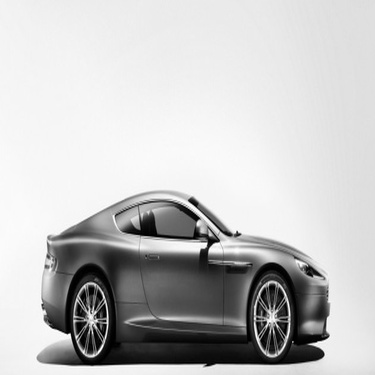car: (32, 183, 335, 360)
